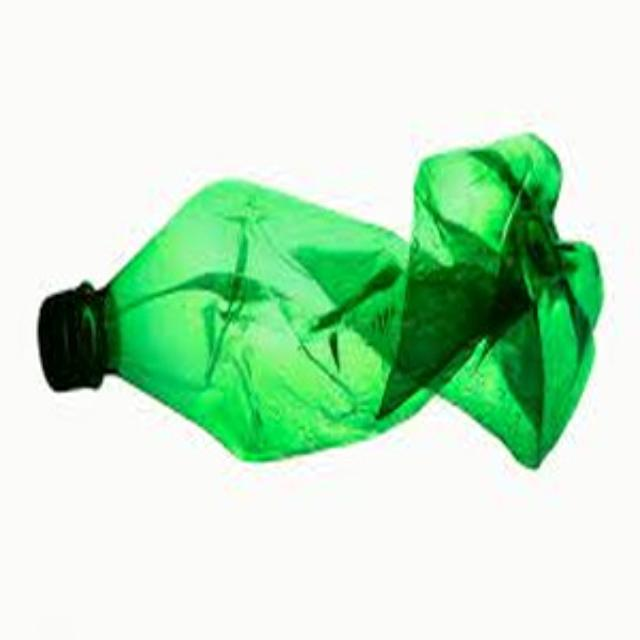Plastic: (36, 126, 600, 468)
